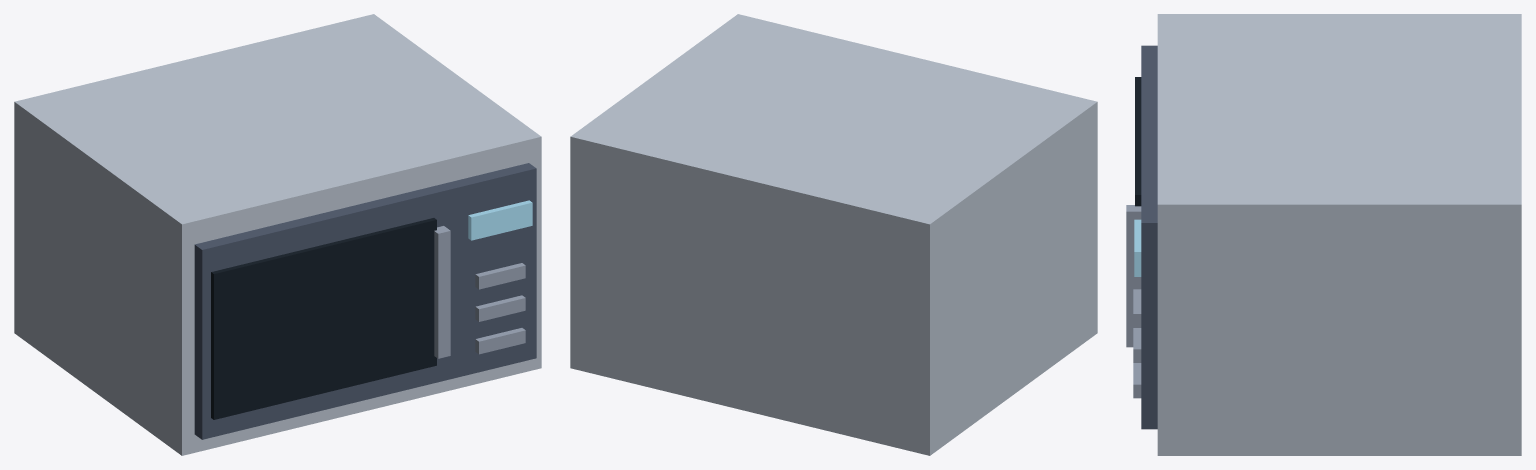
Rendered from microwave-lite.glb.
3 views of the same model, side by side, from view 1: azimuth 30°, elevation 25°; view 2: azimuth 150°, elevation 25°; view 3: azimuth 270°, elevation 25° (orthographic). The views are drawn at different scales.
Visible parts, largest first — view 1: microwave; view 2: microwave; view 3: microwave.
Boxes of the visible parts, left/top/right/bottom form: microwave: left=14, top=14, right=541, bottom=455; microwave: left=570, top=14, right=1097, bottom=455; microwave: left=1126, top=14, right=1521, bottom=455.
Bounding box in the file's own units: 0.52 × 0.32 × 0.456.
